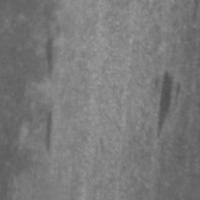inclusion: (148, 63, 179, 144), (34, 12, 62, 85), (37, 103, 60, 158)
